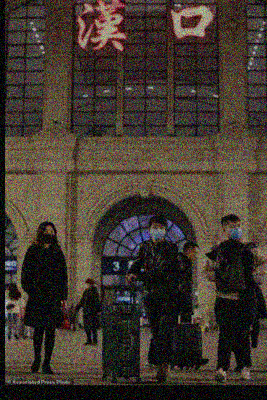with_mask: (226, 222, 243, 239), (151, 223, 166, 240), (42, 229, 55, 243)
without_mask: (191, 250, 199, 262)
